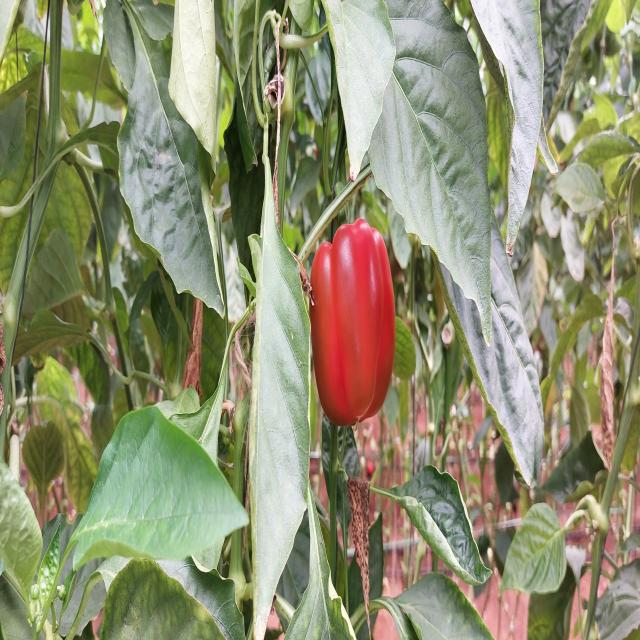Red-Ready-to-Harvest: (309, 222, 401, 420)
